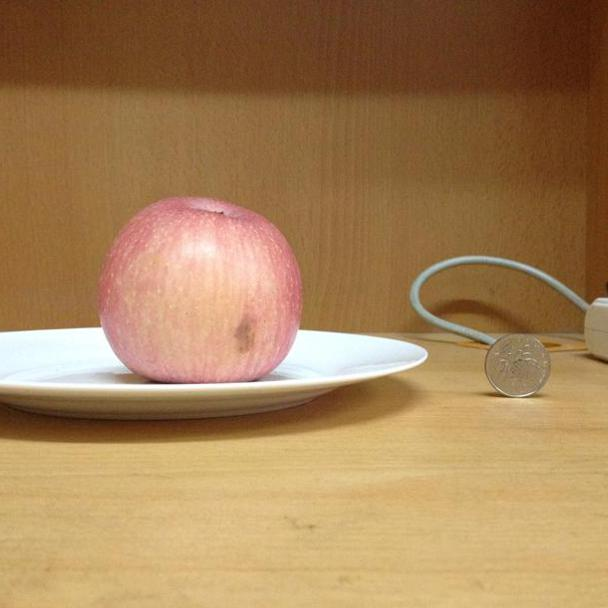apple: (99, 197, 302, 384)
